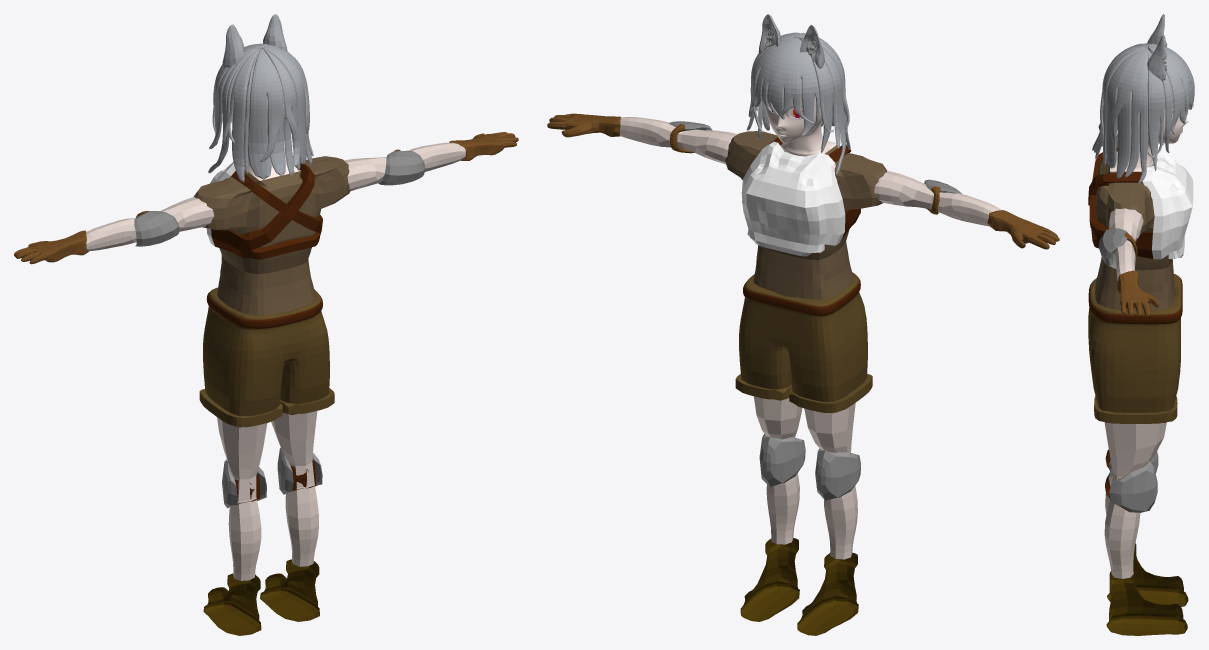
The model's file is Player2.glb.
The picture shows the model from 3 angles, left to right: view 1: azimuth 30°, elevation 25°; view 2: azimuth 150°, elevation 25°; view 3: azimuth 270°, elevation 25°; orthographic projection.
Visible parts, largest first — view 1: player; view 2: player; view 3: player.
Part boxes in pixels (x1=…): player: x1=14, y1=14, x2=518, y2=635; player: x1=547, y1=14, x2=1059, y2=635; player: x1=1088, y1=14, x2=1194, y2=635.
Size of the model in its own units: 15.51 by 17.59 by 2.87.
